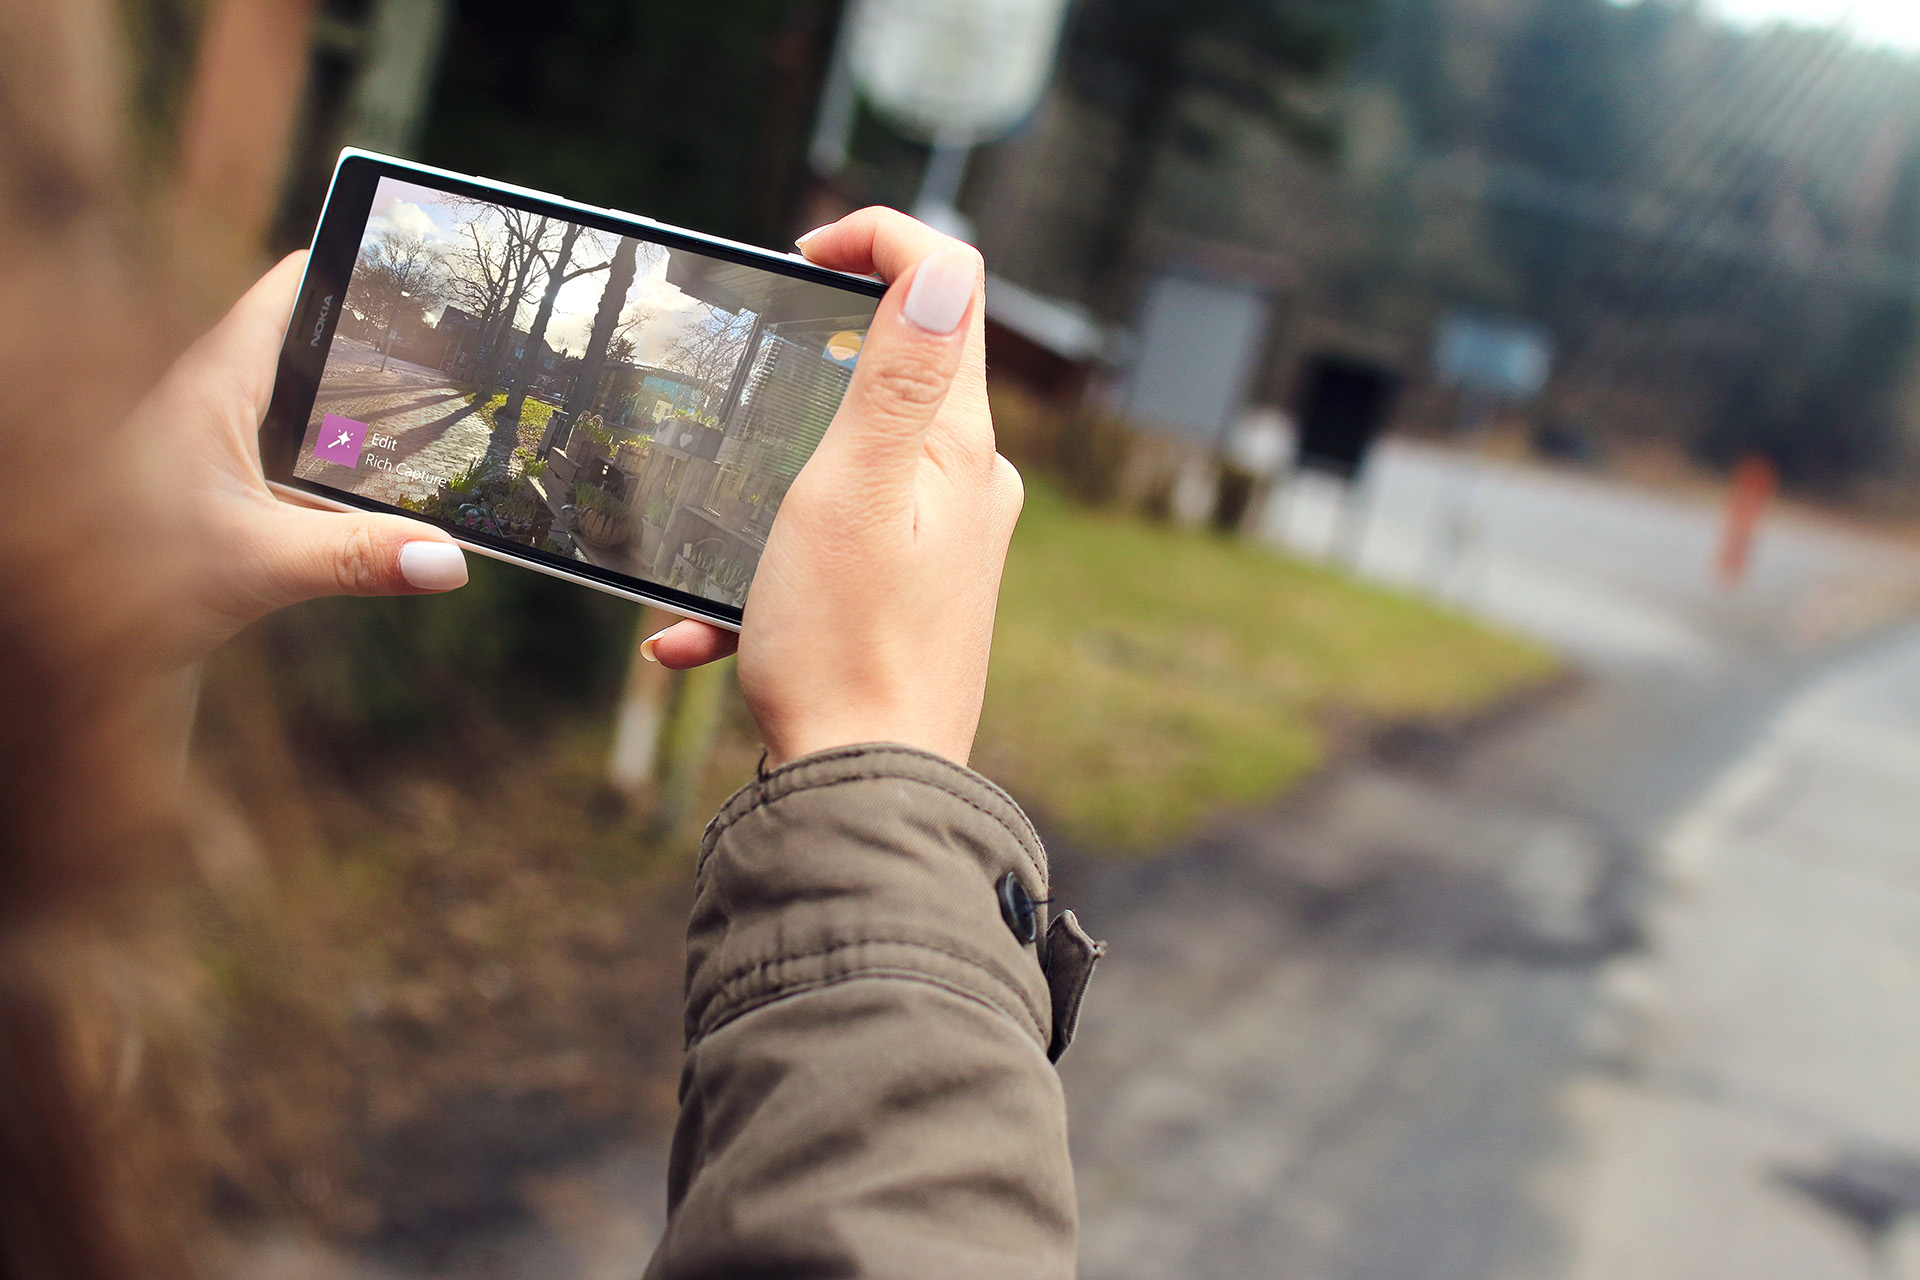smartphone: (254, 141, 894, 639)
